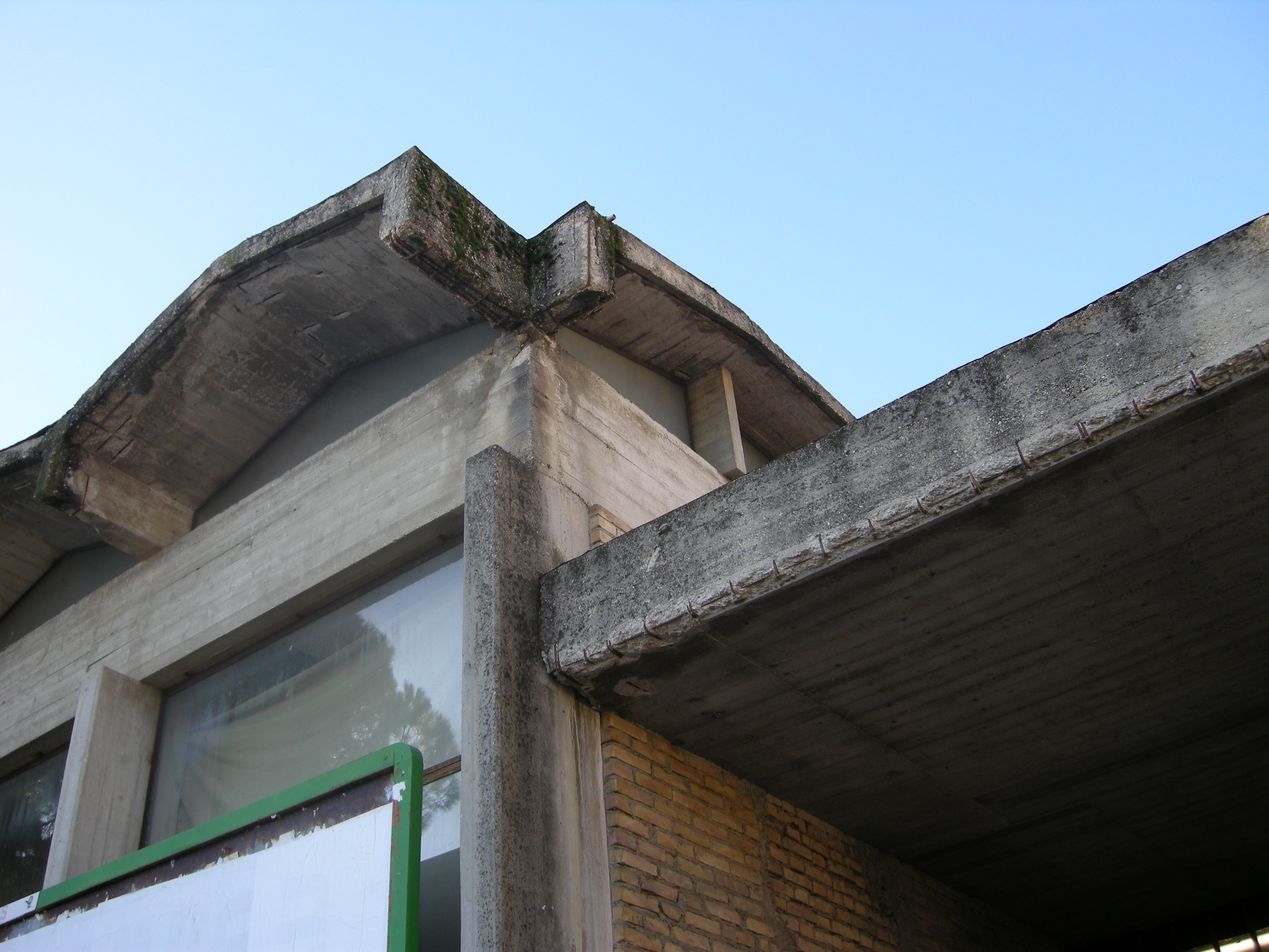Spalling: (536, 332, 1268, 698), (381, 203, 617, 341), (225, 262, 367, 369), (57, 389, 161, 519)
